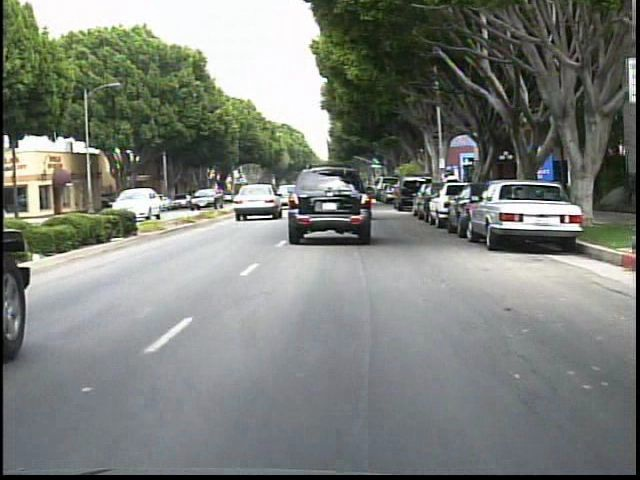person: (446, 169, 461, 206)
